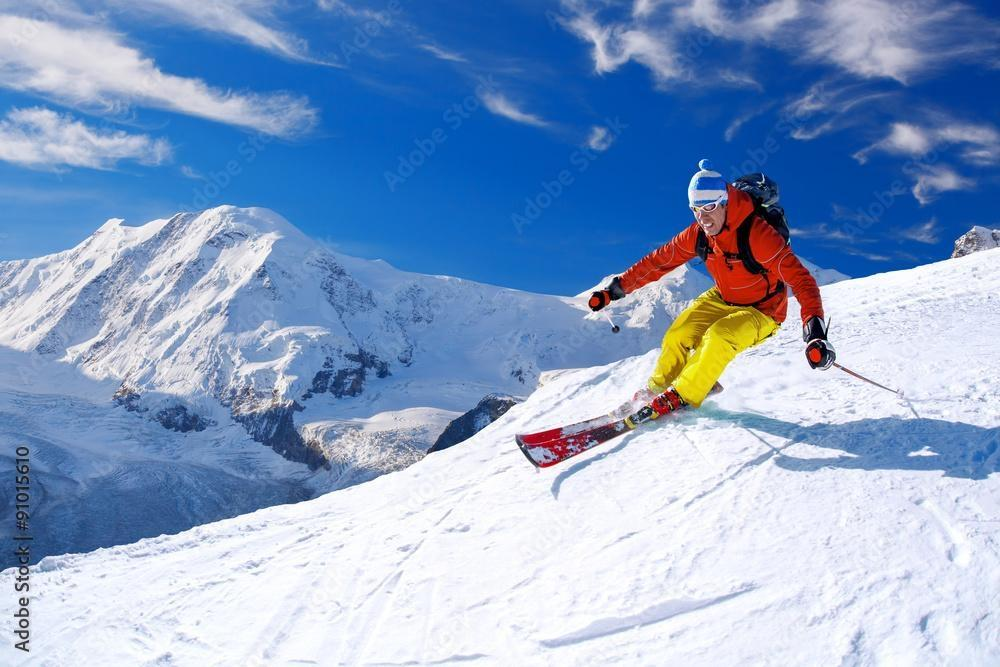Skis: (495, 366, 739, 490)
